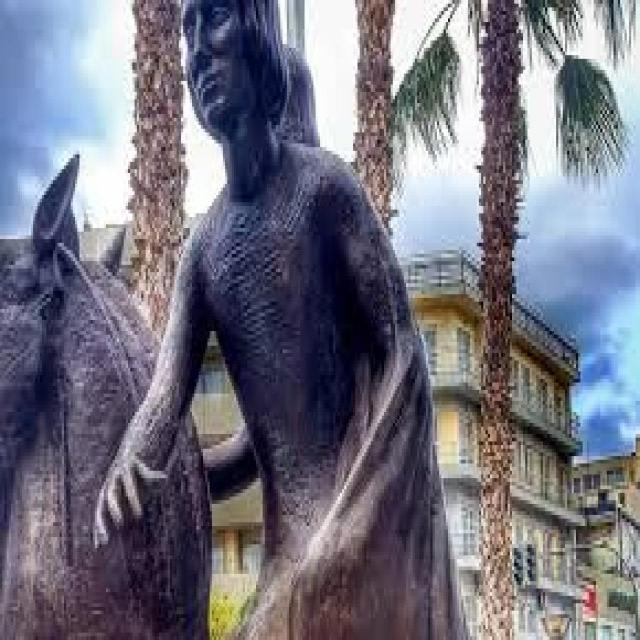Aretousa: (1, 1, 473, 640)
